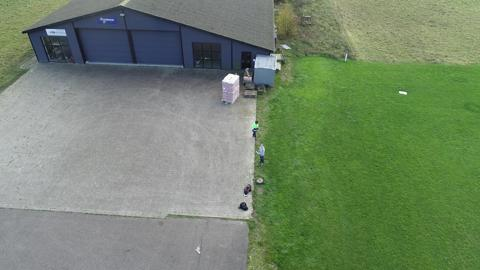RockwoolPallet: (223, 72, 239, 103)
